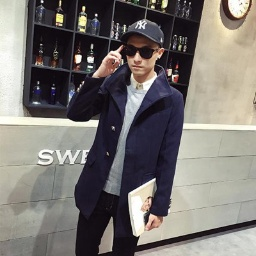face: (123, 29, 164, 77)
